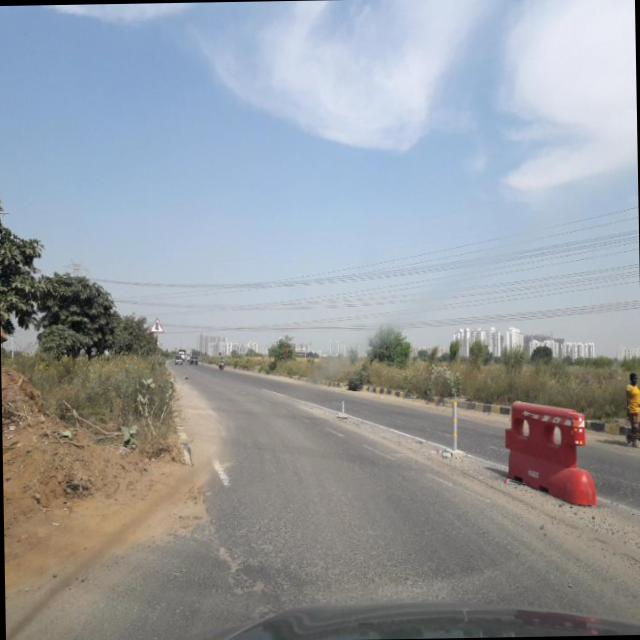crack: (116, 486, 447, 607)
